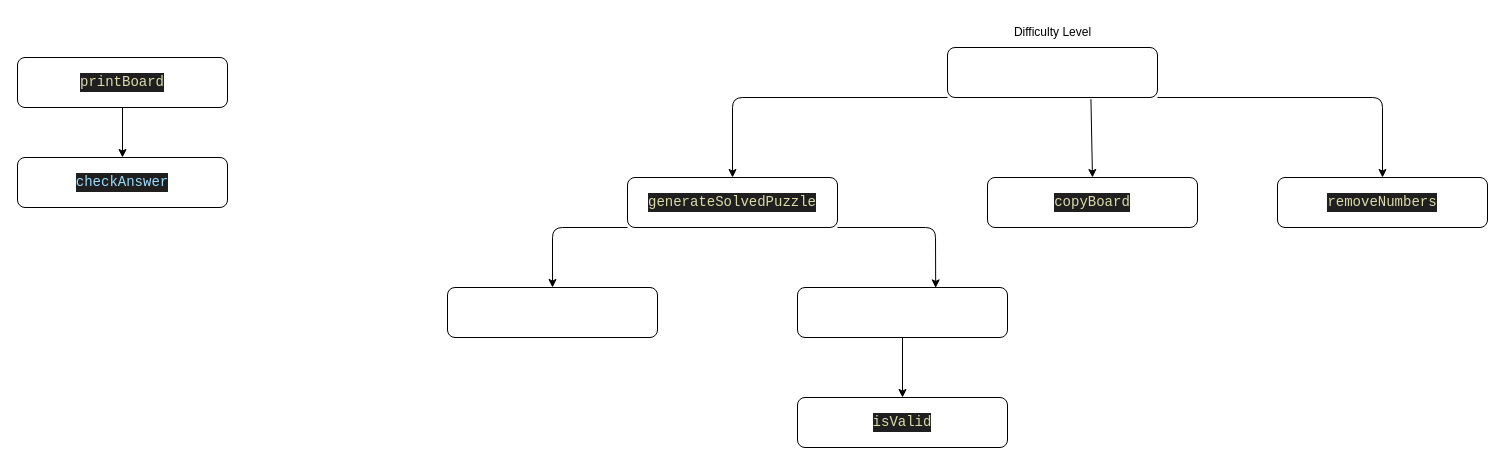
This 1505x465 diagram has some shape labels left out. Each missing label, with the centre of its shape:
generateAndSolveSudoku: [1052,72]
generateEmptyBoard: [552,312]
solveSudoku: [902,312]
